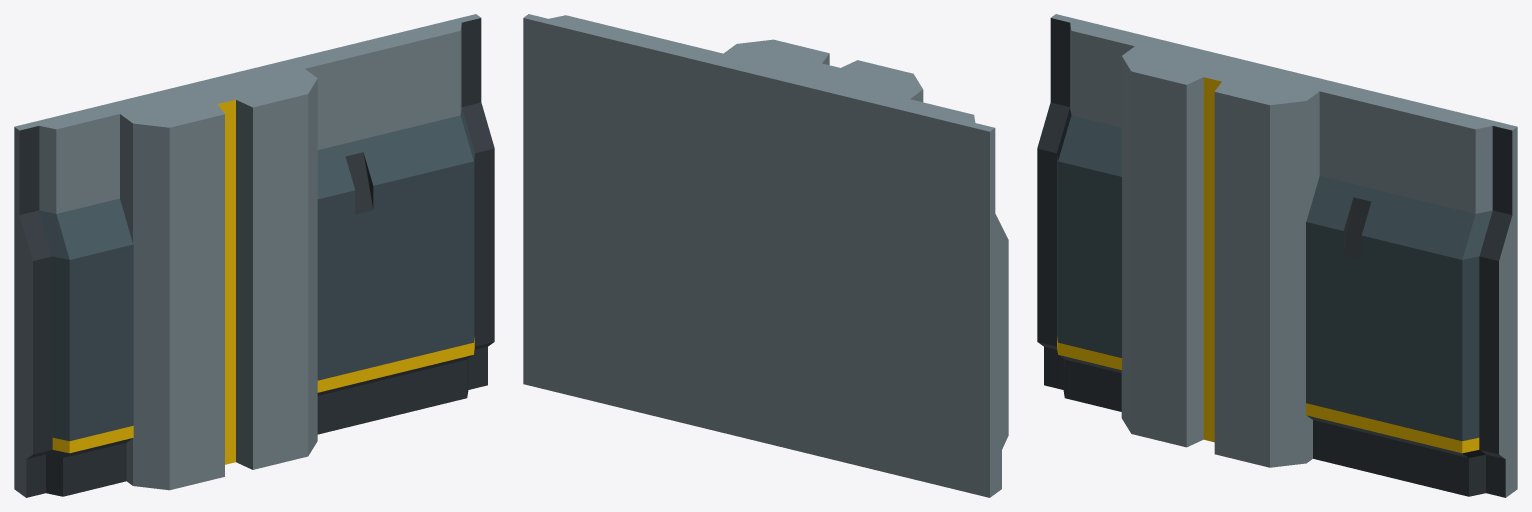
File: Wall_type_C_043.fbx
3 renders of one model, left to right at view 1: azimuth 30°, elevation 25°; view 2: azimuth 150°, elevation 25°; view 3: azimuth 330°, elevation 25°, orthographic.
Parts seen in each view (by area): view 1: Wall_type_C_043; view 2: Wall_type_C_043; view 3: Wall_type_C_043.
Boxes of the visible parts, box(x1,y1,x2,y2) form: Wall_type_C_043: box(14, 14, 494, 497); Wall_type_C_043: box(523, 14, 1008, 497); Wall_type_C_043: box(1037, 14, 1517, 497).
Bounding box in the file's own units: 200 × 30 × 150.
